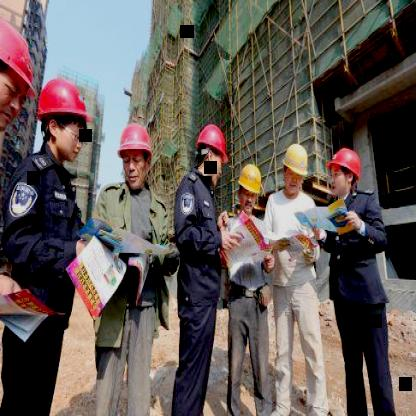helmet: (36, 76, 94, 171), (0, 20, 31, 134), (115, 117, 156, 191), (194, 121, 230, 185), (326, 144, 364, 200), (280, 140, 310, 195), (236, 160, 264, 214)
